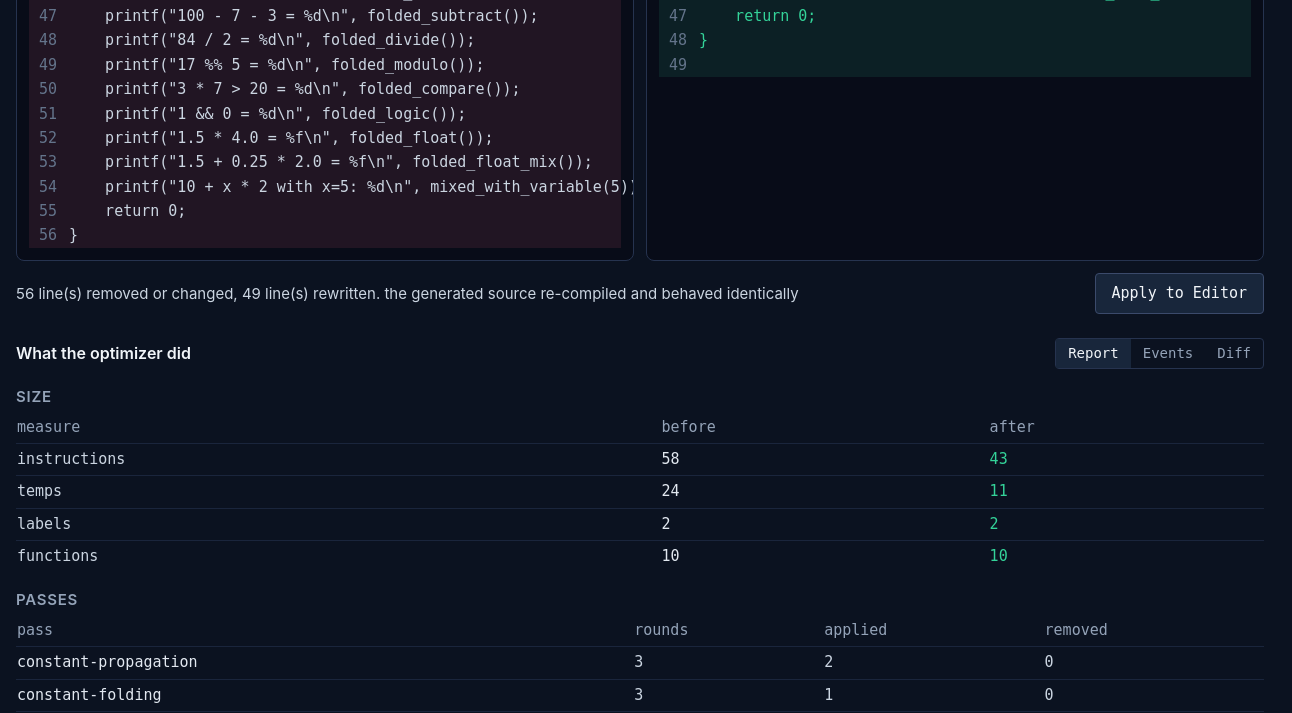
Test: optimizer view › diffs the unoptimized TAC against the optimized one
(page scrolled)
Click the button "diff".
click(1234, 353)  # box [1205,339,1263,368]
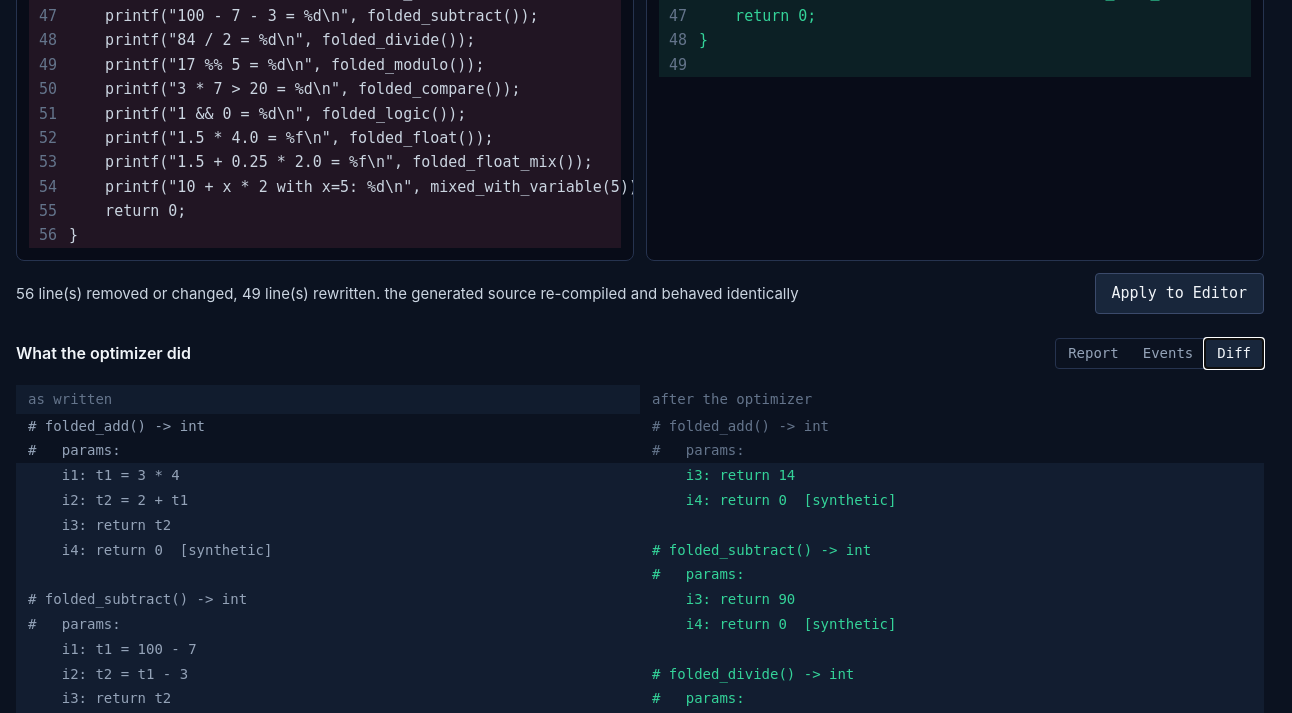
Expected: the column heading "as written" is shown, [16,385,640,414]
Expected: the column heading "after the optimizer" is shown, [640,385,1264,414]
